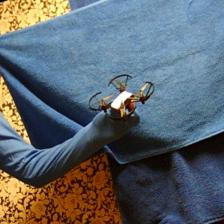drone: (88, 74, 156, 118)
